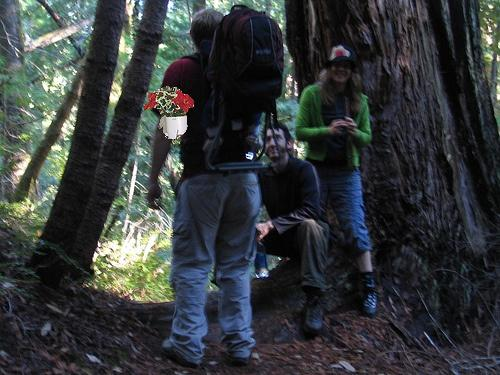tampered: (145, 87, 194, 139)
